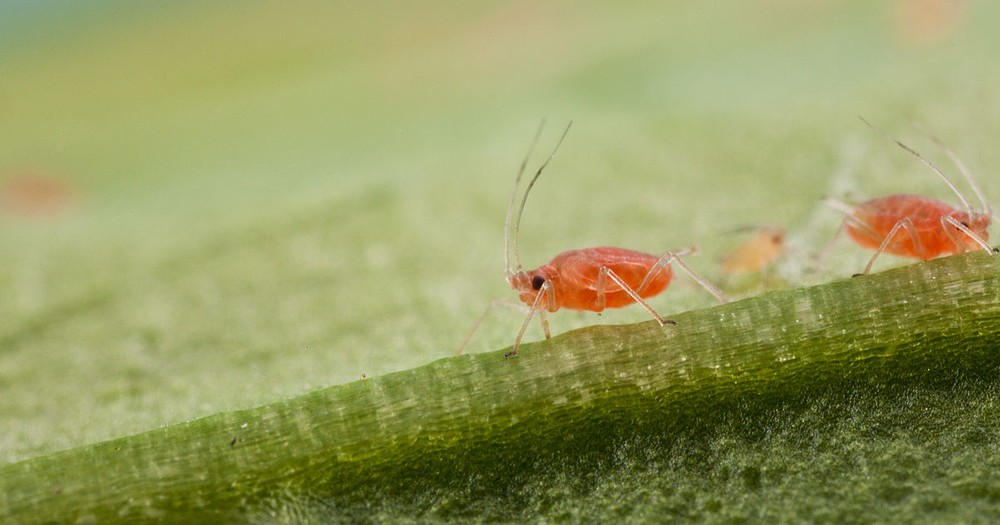Pulgon: (474, 155, 745, 384), (804, 143, 999, 292)
